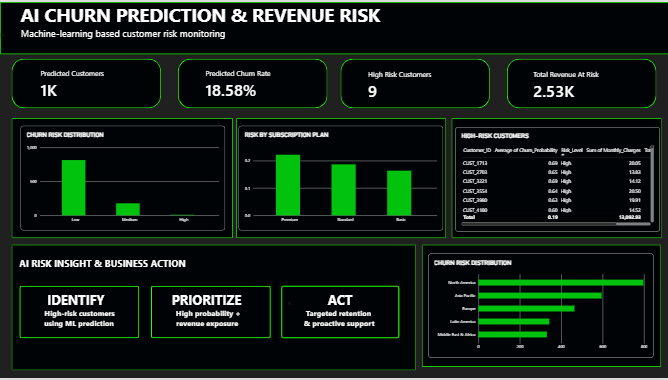

The page's visual inventory and layout, read from the dashboard file:
{"tool":"powerbi","page":{"name":"Page 4","canvas":[1920,1080],"ordinal":3},"visuals":[{"type":"shape","box":[0,0,1920,150],"z":0},{"type":"textbox","box":[0,0,1920.7,129.3],"z":1000},{"type":"shape","box":[32.7,164.5,429,141.9],"z":2000},{"type":"shape","box":[1454.8,164.5,429,141.9],"z":3000},{"type":"shape","box":[977.8,164.5,429,141.9],"z":4000},{"type":"shape","box":[510.1,164.5,429,141.9],"z":5000},{"type":"shape","box":[32.3,332.3,635.5,345.2],"z":6000},{"type":"shape","box":[32.3,696.8,1161.3,361.3],"z":7000},{"type":"shape","box":[677.4,332.3,603.2,345.2],"z":8000},{"type":"shape","box":[1296.8,332.3,603.2,345.2],"z":9000},{"type":"shape","box":[1209.7,696.8,687.1,351.6],"z":10000},{"type":"cardVisual","fields":{"Data":["OTT_Churn_ML_Predictions (1).Predicted Customers"]},"box":[100,151.6,300,171],"z":11000},{"type":"cardVisual","fields":{"Data":["OTT_Churn_ML_Predictions (1).Total Revenue At Risk"]},"box":[1516.1,154.8,300,171],"z":12000},{"type":"cardVisual","fields":{"Data":["OTT_Churn_ML_Predictions (1).High Risk Customers"]},"box":[1041.9,154.8,300,171],"z":13000},{"type":"cardVisual","fields":{"Data":["OTT_Churn_ML_Predictions (1).Predicted Churn Rate"]},"box":[574.2,151.6,300,171],"z":14000},{"type":"columnChart","title":"CHURN RISK DISTRIBUTION","fields":{"Category":["OTT_Churn_ML_Predictions (1).Risk_Level"],"Y":["Count(OTT_Churn_ML_Predictions (1).Customer_ID)"]},"box":[58.1,354.8,587.1,300],"z":15000},{"type":"columnChart","title":"RISK BY SUBSCRIPTION PLAN","fields":{"Category":["OTT_Churn_ML_Predictions (1).Subscription_Plan"],"Y":["Avg(OTT_Churn_ML_Predictions (1).Churn_Probability)"]},"box":[683.9,354.8,587.1,300],"z":16000},{"type":"tableEx","title":"HIGH-RISK CUSTOMERS","fields":{"Values":["OTT_Churn_ML_Predictions (1).Customer_ID","Avg(OTT_Churn_ML_Predictions (1).Churn_Probability)","OTT_Churn_ML_Predictions (1).Risk_Level","Sum(OTT_Churn_ML_Predictions (1).Monthly_Charges)","OTT_Churn_ML_Predictions (1).Total Revenue At Risk"]},"box":[1306.5,358.1,587.1,300],"z":17000},{"type":"barChart","title":"CHURN RISK DISTRIBUTION","fields":{"Category":["OTT_ML_Customer_Predictions (1).Region"],"Y":["Sum(OTT_ML_Customer_Predictions (1).Revenue_At_Risk)"]},"box":[1229.5,723.1,646.6,299.4],"z":18000},{"type":"shape","box":[57.4,816,344.3,150.8],"z":19000},{"type":"shape","box":[432.8,816,344.3,150.8],"z":20000},{"type":"shape","box":[806.6,816,339.3,150.8],"z":21000},{"type":"textbox","box":[98.7,324.9,1047.9,76.4],"z":22000},{"type":"textbox","box":[100,100,300,300],"z":23000},{"type":"textbox","box":[100,100,300,300],"z":24000},{"type":"textbox","box":[57.4,696.7,985.2,91.8],"z":25000},{"type":"textbox","box":[73.8,829.1,300,209.8],"z":26000},{"type":"textbox","box":[447.5,829.1,300,123],"z":27000},{"type":"textbox","box":[824.6,829.1,300,123],"z":28000}]}

Visuals, with their boxes in screenshot pixels (x1, y1, x2, y2), scaled from the page's 1920x1080 canvas onto the 668x380 screenshot:
shape: (x1=0, y1=0, x2=667, y2=53)
textbox: (x1=0, y1=0, x2=667, y2=45)
shape: (x1=11, y1=58, x2=161, y2=108)
shape: (x1=506, y1=58, x2=655, y2=108)
shape: (x1=340, y1=58, x2=489, y2=108)
shape: (x1=177, y1=58, x2=327, y2=108)
shape: (x1=11, y1=117, x2=232, y2=238)
shape: (x1=11, y1=245, x2=415, y2=372)
shape: (x1=236, y1=117, x2=446, y2=238)
shape: (x1=451, y1=117, x2=661, y2=238)
shape: (x1=421, y1=245, x2=660, y2=369)
cardVisual - OTT_Churn_ML_Predictions (1).Predicted Customers: (x1=35, y1=53, x2=139, y2=114)
cardVisual - OTT_Churn_ML_Predictions (1).Total Revenue At Risk: (x1=527, y1=54, x2=632, y2=115)
cardVisual - OTT_Churn_ML_Predictions (1).High Risk Customers: (x1=362, y1=54, x2=467, y2=115)
cardVisual - OTT_Churn_ML_Predictions (1).Predicted Churn Rate: (x1=200, y1=53, x2=304, y2=114)
"CHURN RISK DISTRIBUTION" columnChart: (x1=20, y1=125, x2=224, y2=230)
"RISK BY SUBSCRIPTION PLAN" columnChart: (x1=238, y1=125, x2=442, y2=230)
"HIGH-RISK CUSTOMERS" tableEx: (x1=455, y1=126, x2=659, y2=232)
"CHURN RISK DISTRIBUTION" barChart: (x1=428, y1=254, x2=653, y2=360)
shape: (x1=20, y1=287, x2=140, y2=340)
shape: (x1=151, y1=287, x2=270, y2=340)
shape: (x1=281, y1=287, x2=399, y2=340)
textbox: (x1=34, y1=114, x2=399, y2=141)
textbox: (x1=35, y1=35, x2=139, y2=141)
textbox: (x1=35, y1=35, x2=139, y2=141)
textbox: (x1=20, y1=245, x2=363, y2=277)
textbox: (x1=26, y1=292, x2=130, y2=366)
textbox: (x1=156, y1=292, x2=260, y2=335)
textbox: (x1=287, y1=292, x2=391, y2=335)
